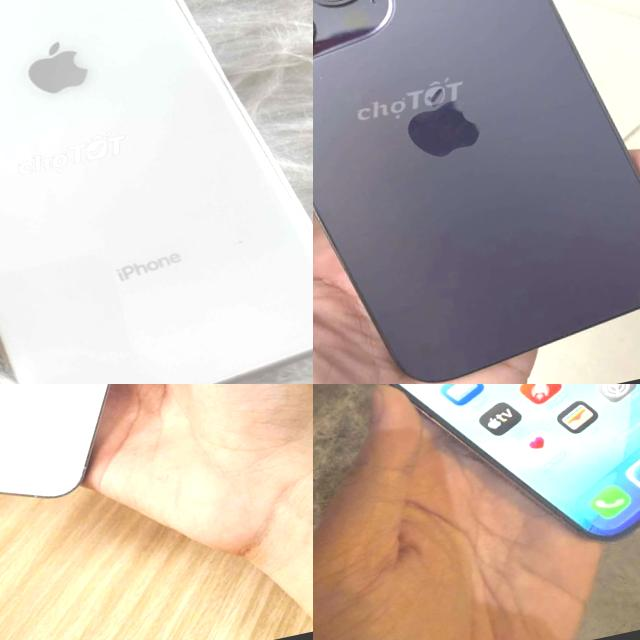scratch: (313, 0, 388, 27)
